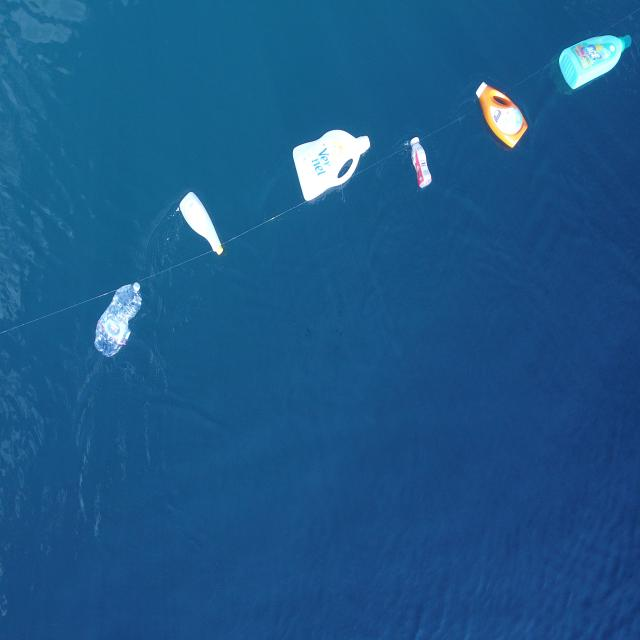bottles: (290, 123, 375, 205), (556, 27, 633, 92), (473, 77, 532, 156), (90, 276, 144, 361), (173, 185, 227, 258), (406, 128, 436, 192)
